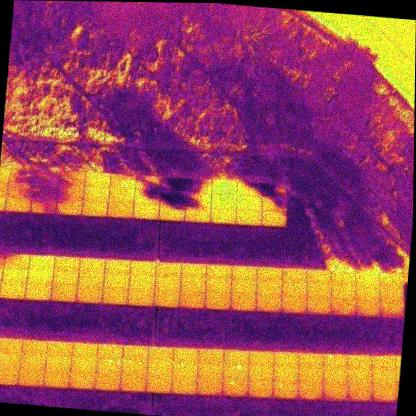Diode: (110, 173, 136, 191), (356, 272, 380, 288)
Hotspot: (197, 375, 224, 397), (247, 379, 274, 399), (145, 374, 172, 394), (222, 377, 249, 396), (272, 381, 299, 399), (198, 348, 225, 365), (148, 345, 175, 362), (121, 358, 148, 375), (222, 363, 250, 379), (323, 353, 349, 370), (97, 343, 123, 360), (172, 361, 199, 377), (96, 357, 123, 373), (347, 355, 372, 372), (248, 366, 274, 382), (379, 274, 404, 290)
Normal: (297, 380, 323, 401), (171, 375, 197, 396), (305, 295, 332, 315), (120, 372, 147, 392), (18, 368, 45, 388), (69, 371, 97, 390), (43, 369, 71, 388), (346, 382, 372, 402), (95, 371, 121, 391), (330, 297, 357, 316), (76, 285, 103, 304), (371, 383, 398, 402), (183, 206, 211, 224), (205, 264, 233, 282), (230, 293, 258, 311), (380, 300, 406, 319), (281, 296, 307, 315), (256, 294, 282, 313), (179, 291, 205, 310), (274, 351, 300, 370), (256, 266, 283, 284), (180, 263, 207, 281), (104, 259, 131, 277), (355, 299, 382, 317), (204, 293, 231, 311), (102, 287, 129, 305), (209, 208, 237, 225), (56, 199, 84, 216), (154, 262, 182, 279), (26, 269, 54, 286), (152, 291, 180, 308), (249, 349, 274, 368), (260, 210, 286, 228), (108, 201, 134, 219), (331, 270, 357, 288), (232, 264, 258, 282), (256, 281, 282, 299), (127, 289, 153, 307), (299, 352, 325, 370), (47, 340, 73, 358), (322, 381, 348, 399), (211, 180, 238, 197), (210, 194, 237, 211), (235, 210, 262, 227), (133, 203, 160, 220), (82, 200, 109, 217), (5, 197, 32, 214), (130, 260, 157, 277), (79, 258, 106, 275), (54, 256, 81, 273), (128, 275, 155, 292), (50, 285, 77, 302), (0, 282, 27, 299), (224, 349, 251, 366), (122, 344, 149, 361), (72, 342, 99, 359), (272, 367, 299, 384), (20, 354, 47, 371), (27, 256, 55, 272), (85, 172, 111, 189), (236, 195, 262, 212), (109, 187, 135, 204), (84, 186, 110, 203), (306, 269, 332, 286), (282, 268, 308, 285), (371, 355, 397, 372), (22, 339, 48, 356), (322, 367, 348, 384), (204, 279, 231, 295), (179, 278, 206, 294), (103, 273, 130, 289), (52, 271, 79, 287), (2, 268, 29, 284), (0, 338, 24, 356), (297, 367, 324, 383), (70, 357, 97, 373), (379, 288, 405, 304), (231, 280, 257, 296), (154, 277, 180, 293), (25, 284, 51, 300), (173, 347, 199, 363), (347, 369, 373, 385), (147, 359, 173, 375), (356, 285, 380, 302), (281, 283, 308, 298), (78, 273, 105, 288), (45, 356, 72, 371), (331, 285, 357, 300), (371, 370, 397, 385), (0, 353, 22, 370), (198, 363, 224, 377), (0, 366, 20, 384), (307, 284, 332, 298)
Shadow: (261, 180, 288, 198), (185, 191, 212, 209), (32, 183, 59, 201), (7, 182, 34, 200), (58, 184, 86, 201), (30, 197, 58, 214), (3, 253, 31, 270), (160, 189, 186, 207), (185, 178, 212, 195), (261, 196, 288, 213), (134, 189, 161, 206), (236, 181, 262, 198), (159, 204, 185, 221), (160, 176, 187, 192), (34, 170, 61, 186), (8, 168, 35, 184), (135, 175, 161, 191), (59, 171, 86, 186)
